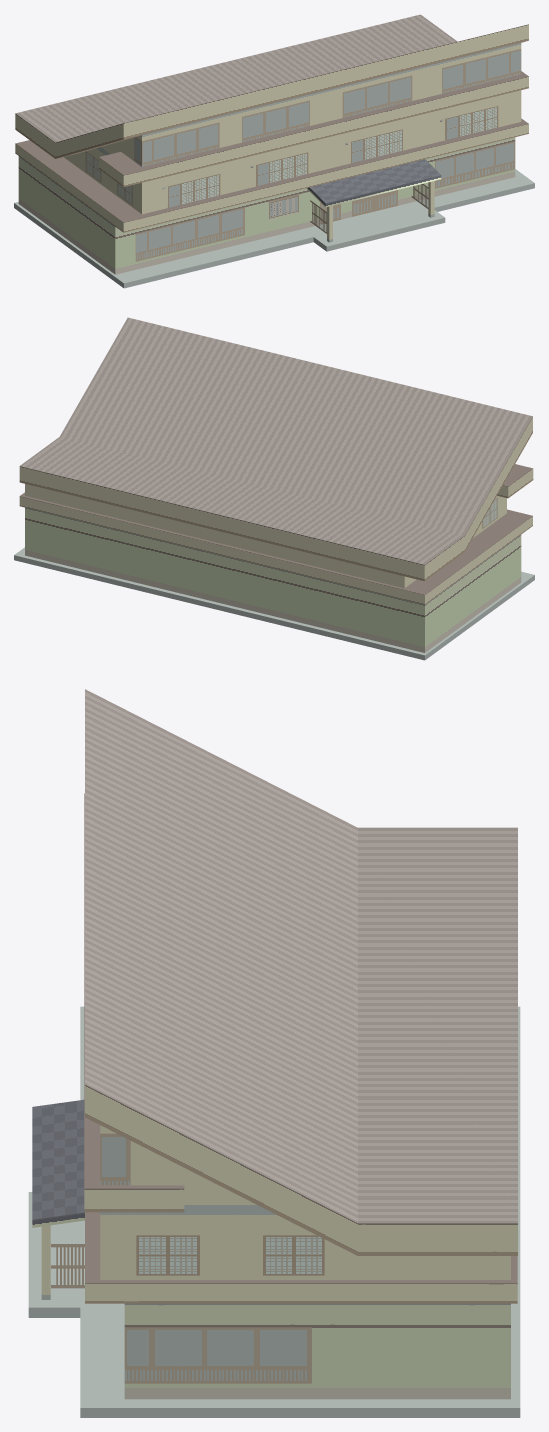
File: 0268_Ryokan.glb
The picture shows the model from 3 angles, top to bottom: view 1: azimuth 30°, elevation 25°; view 2: azimuth 150°, elevation 25°; view 3: azimuth 270°, elevation 25°; orthographic projection. The views are drawn at different scales.
Parts seen in each view (by area): view 1: part_0; view 2: part_0; view 3: part_0.
Part boxes in pixels (x1,y1,x2,y2): part_0: (14, 14, 534, 288); part_0: (14, 317, 534, 660); part_0: (28, 689, 520, 1417).
Bounding box in the file's own units: 30.69 × 11.72 × 15.9.
1 material, 1 textured.
